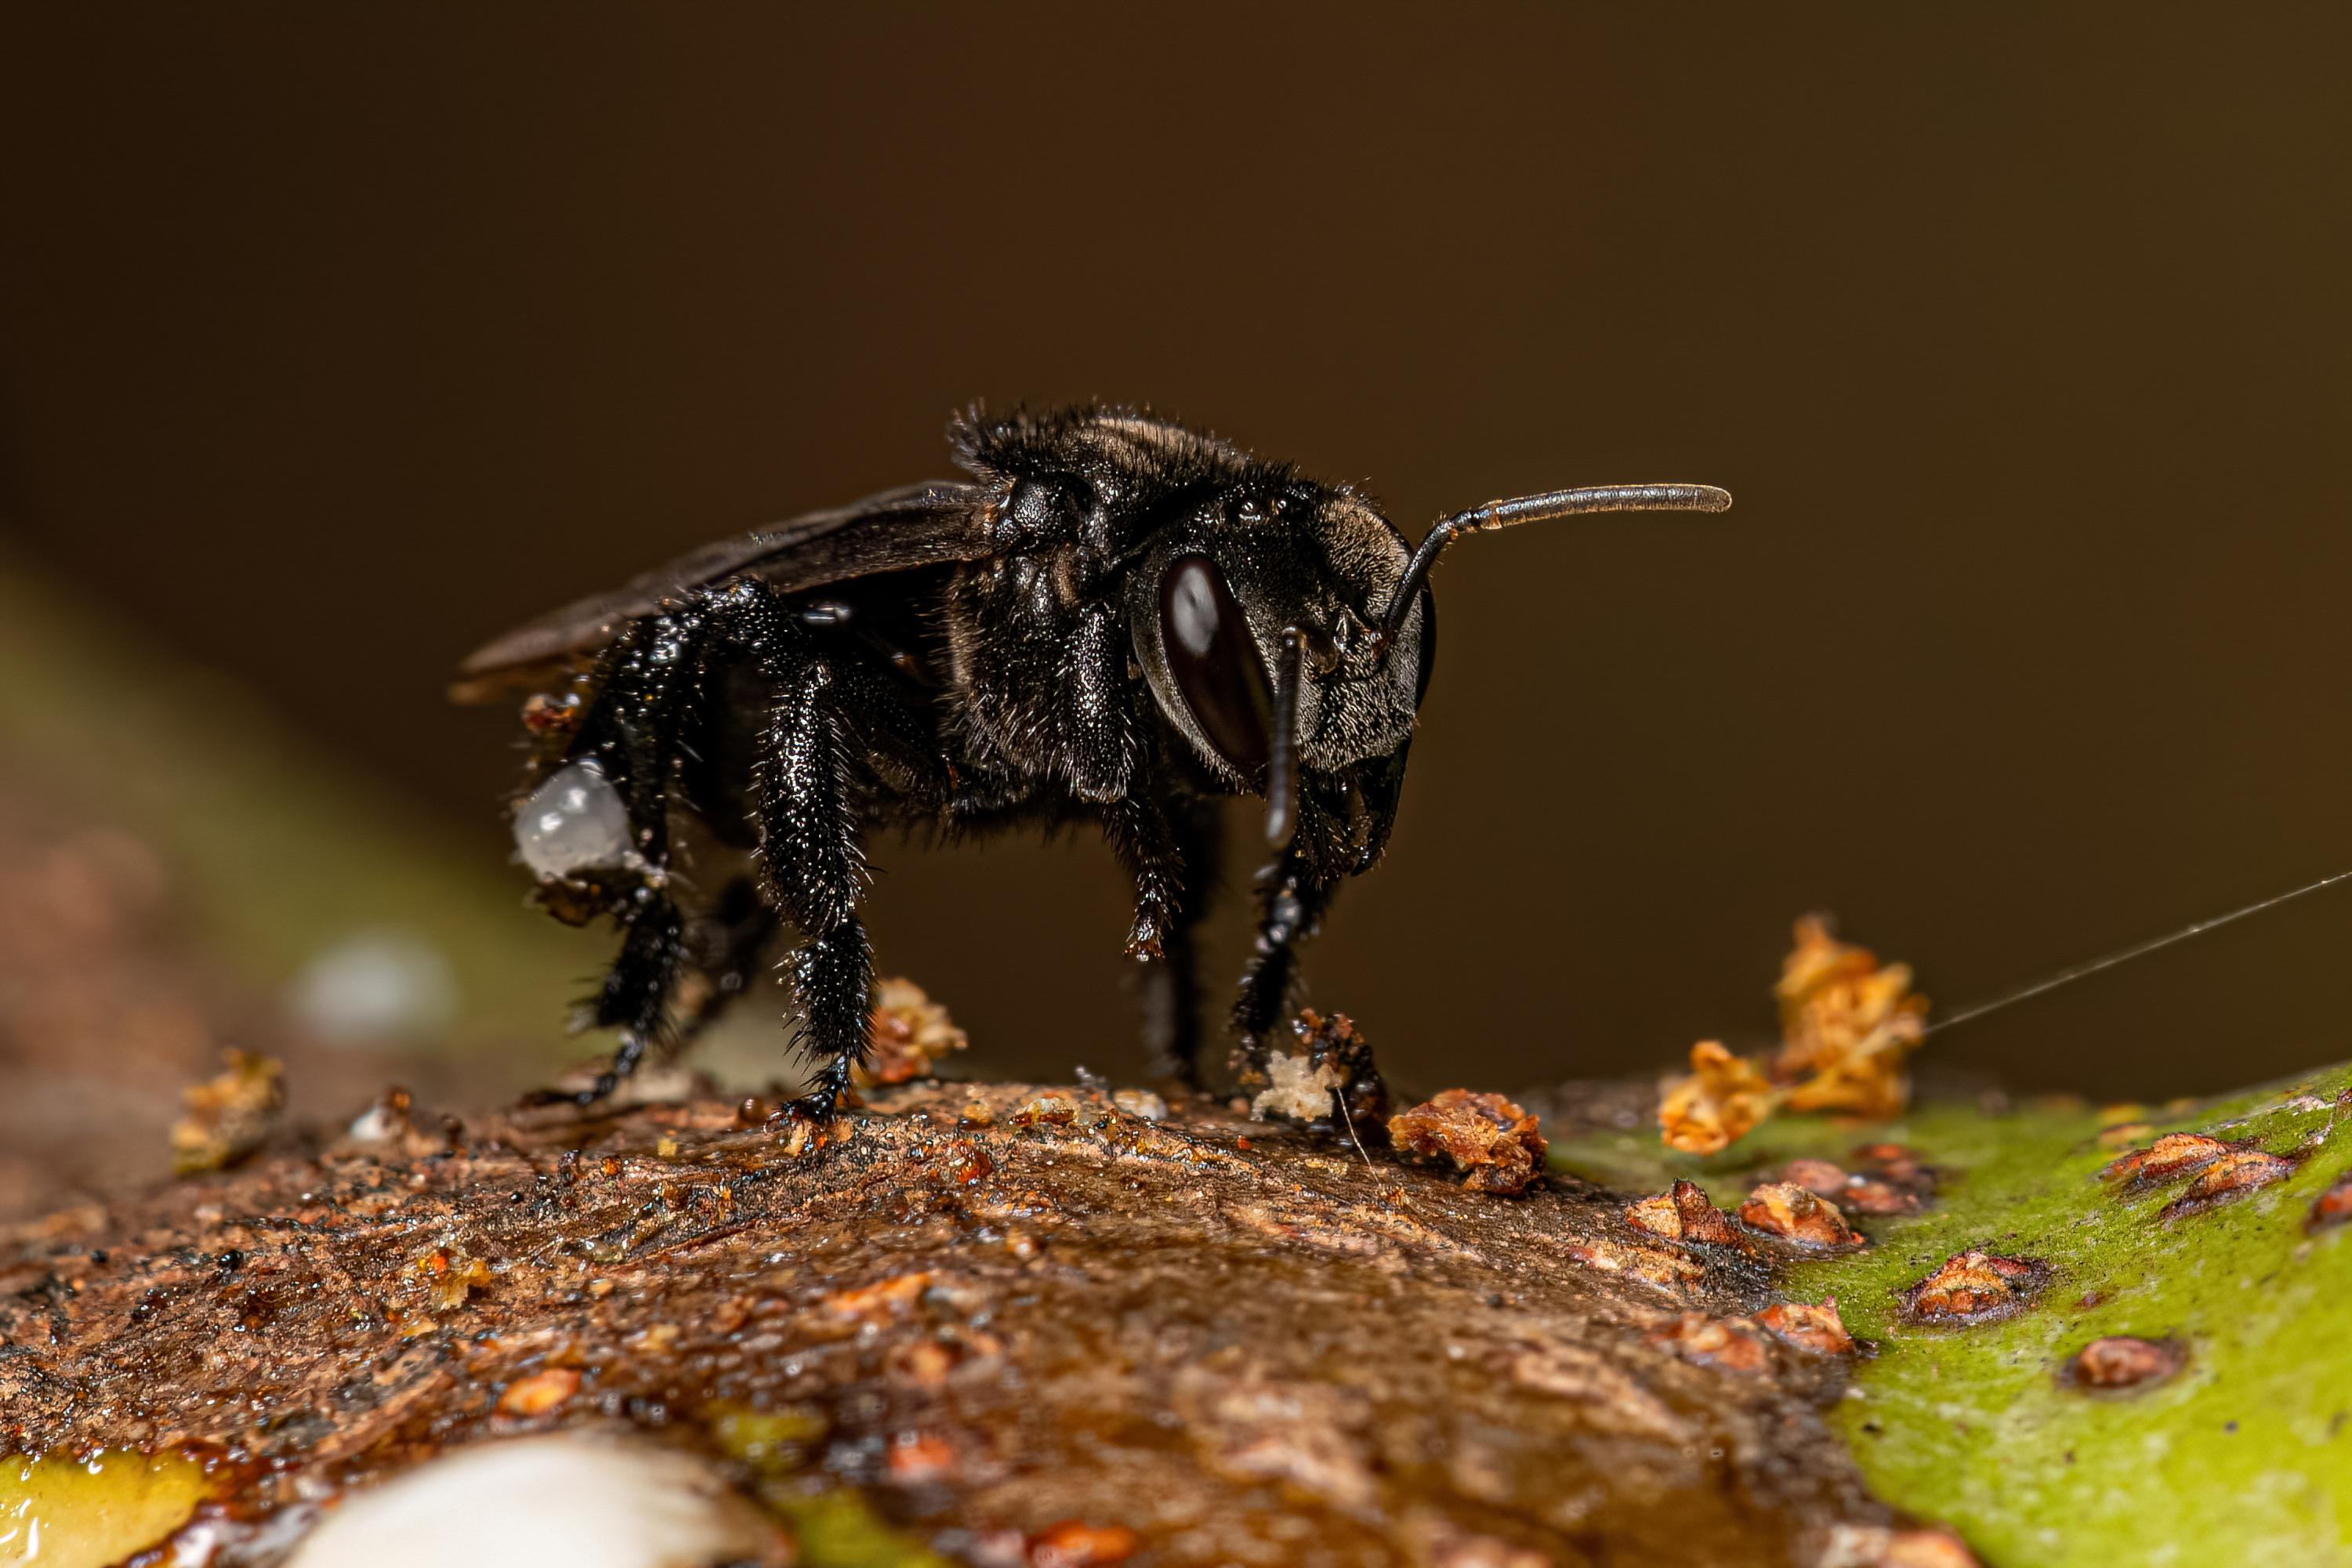Meliponula: (469, 348, 1722, 1104)
